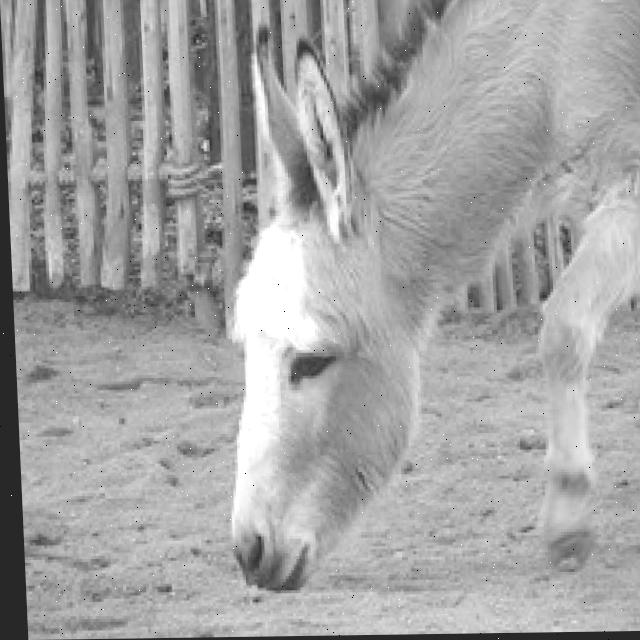Donkey: (202, 0, 640, 591)
